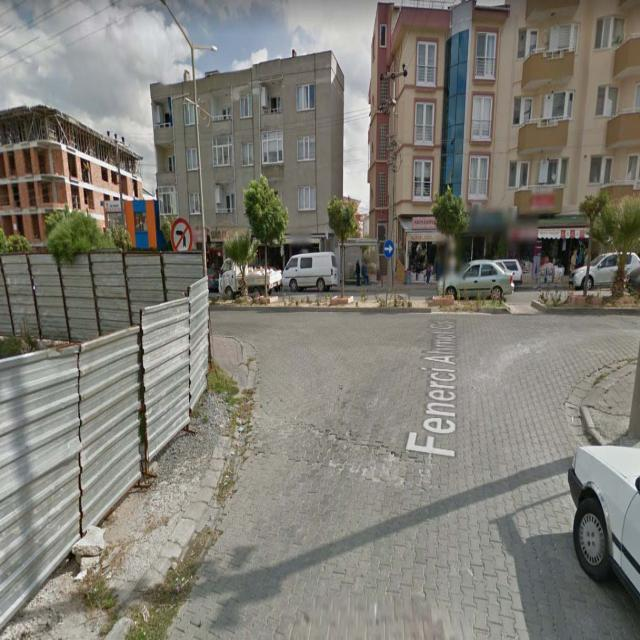sag: (384, 241, 394, 257)
soladonulmez: (171, 218, 191, 253)
